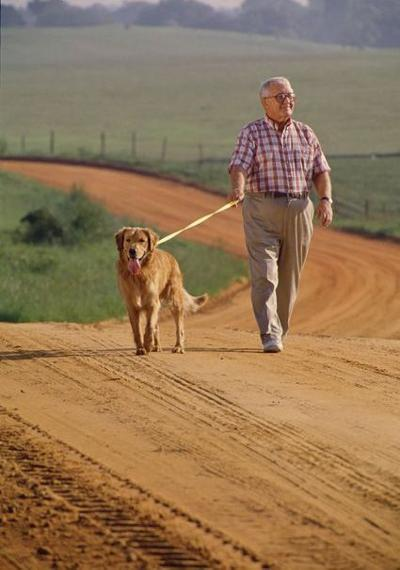person: (227, 78, 333, 351)
